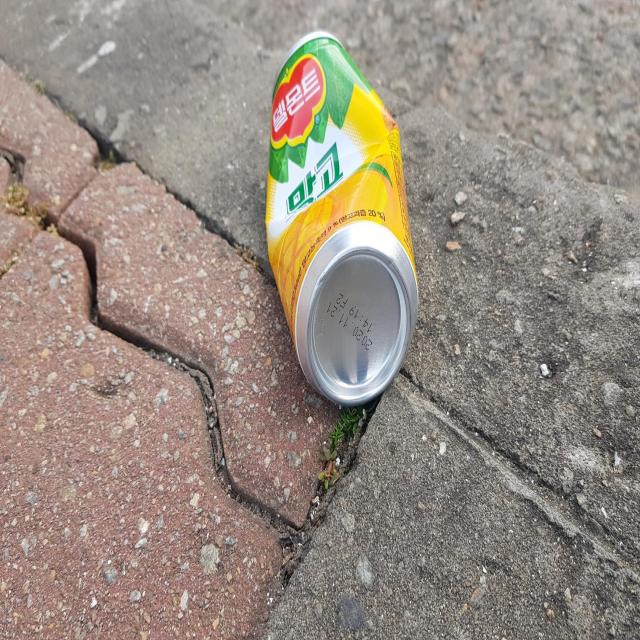can: (266, 30, 419, 404)
